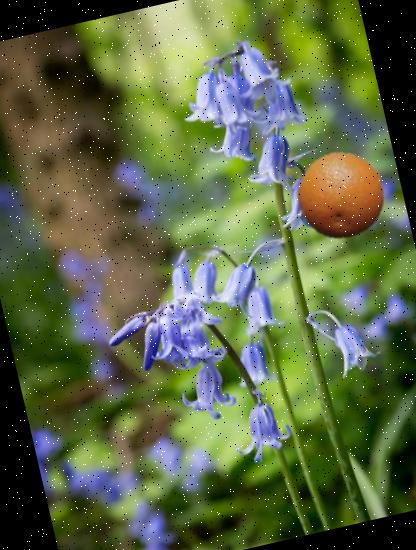Orange: (286, 142, 394, 250)
